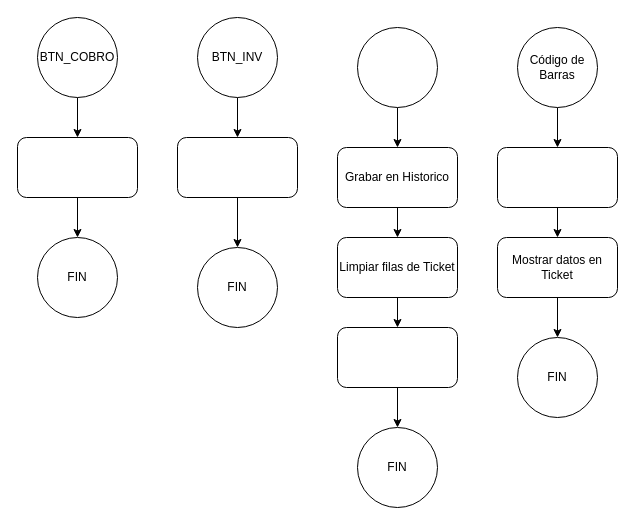
Some shapes in this 635 by 525 pixel diagram are drawn without their labels. The centre of each missing label's shape, as x and y in pixels:
Abrir Hoja Inventario: the point at 237,167
Abrir Hoja Ticket: the point at 77,167
BTN_REG COBRO: the point at 397,67
Consultar inventario: the point at 557,177
Mostrar costo total: the point at 397,357
